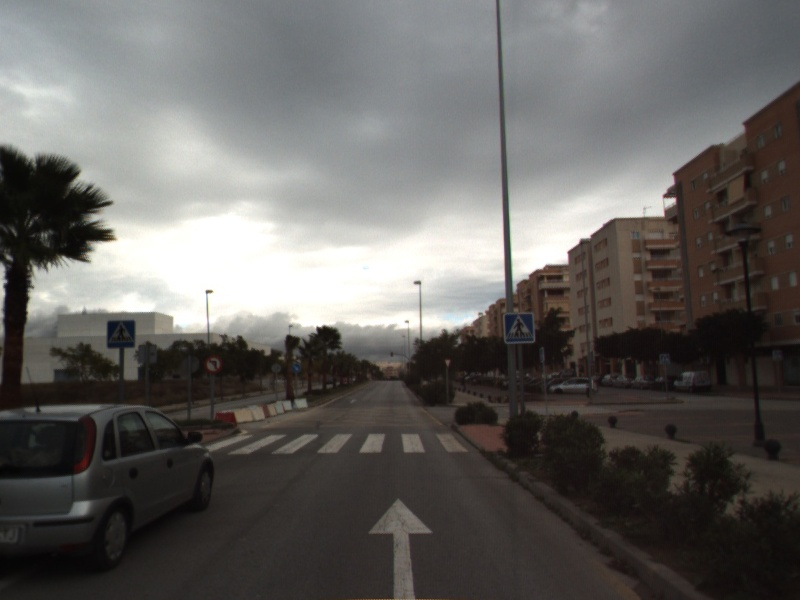STRAIGHT: (366, 495, 436, 600)
